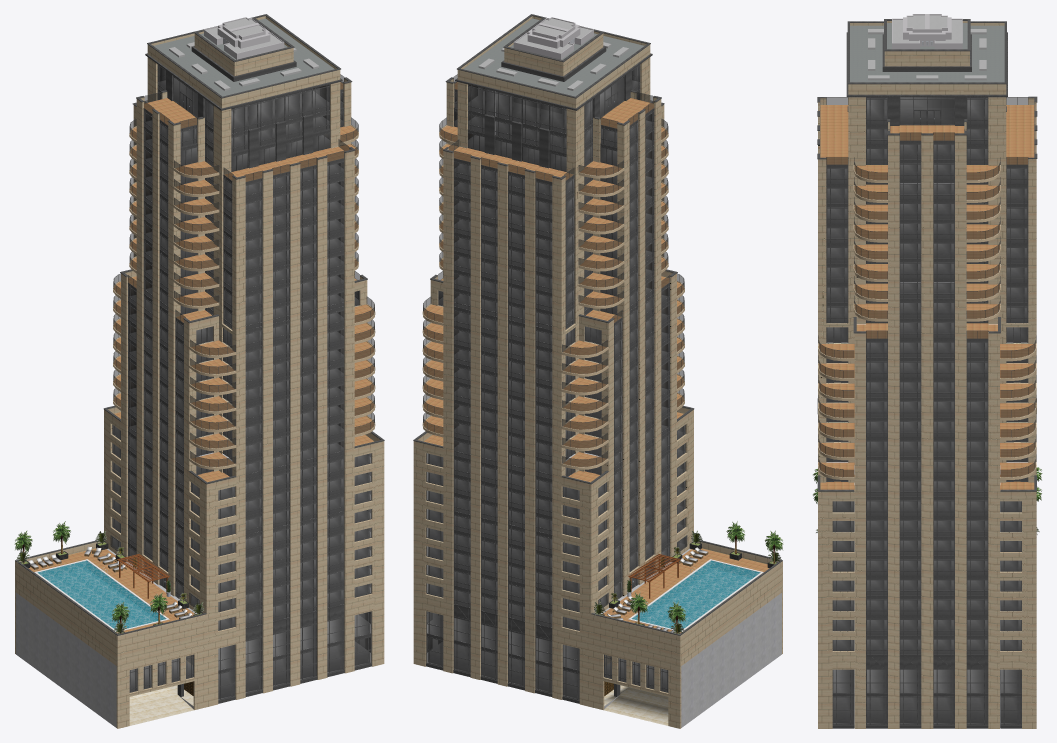
File: harper.optimized.glb
3 renders of one model, left to right at view 1: azimuth 30°, elevation 25°; view 2: azimuth 150°, elevation 25°; view 3: azimuth 270°, elevation 25°, orthographic. The views are drawn at different scales.
Visible parts, largest first — view 1: Mesh78__34_0, Mesh35_Glass_0, Mesh35_Dark_Steel_0, Mesh17___0, Mesh320__32_0, Mesh330__159_0, Mesh654__31_0, Mesh320__Water_Pool_Light_1_0, Mesh78_Blacktop_Old_02_0, Mesh35_FrontColor_0, Mesh1641__57_0, Mesh62_Metal_Steel_Textured_White_0 (+3 smaller); view 2: Mesh78__34_0, Mesh35_Glass_0, Mesh35_Dark_Steel_0, Mesh17___0, Mesh320__32_0, Mesh330__159_0, Mesh654__31_0, Mesh320__Water_Pool_Light_1_0, Mesh78_Blacktop_Old_02_0, Mesh35_FrontColor_0, Mesh1641__57_0, Mesh62_Metal_Steel_Textured_White_0 (+3 smaller); view 3: Mesh78__34_0, Mesh35_Glass_0, Mesh35_Dark_Steel_0, Mesh17___0, Mesh320__32_0, Mesh330__159_0, Mesh78_Blacktop_Old_02_0, Mesh654__31_0, Mesh35_FrontColor_0, Mesh62_Metal_Steel_Textured_White_0.
Part boxes in pixels (<box>): Mesh78__34_0: <box>15,16,384,728</box>; Mesh35_Glass_0: <box>111,66,370,699</box>; Mesh35_Dark_Steel_0: <box>15,14,384,703</box>; Mesh17___0: <box>16,78,370,727</box>; Mesh320__32_0: <box>28,82,373,633</box>; Mesh330__159_0: <box>113,74,374,466</box>; Mesh654__31_0: <box>113,125,375,469</box>; Mesh320__Water_Pool_Light_1_0: <box>38,560,165,628</box>; Mesh78_Blacktop_Old_02_0: <box>153,18,334,96</box>; Mesh35_FrontColor_0: <box>28,17,370,647</box>; Mesh1641__57_0: <box>129,685,194,725</box>; Mesh62_Metal_Steel_Textured_White_0: <box>169,18,319,90</box>; Mesh78__34_0: <box>413,16,782,728</box>; Mesh35_Glass_0: <box>427,66,686,699</box>; Mesh35_Dark_Steel_0: <box>413,14,782,703</box>; Mesh17___0: <box>427,78,781,727</box>; Mesh320__32_0: <box>424,82,769,633</box>; Mesh330__159_0: <box>423,74,684,466</box>; Mesh654__31_0: <box>422,125,684,469</box>; Mesh320__Water_Pool_Light_1_0: <box>632,560,759,628</box>; Mesh78_Blacktop_Old_02_0: <box>463,18,644,96</box>; Mesh35_FrontColor_0: <box>427,17,699,647</box>; Mesh1641__57_0: <box>603,685,668,725</box>; Mesh62_Metal_Steel_Textured_White_0: <box>478,18,628,90</box>; Mesh78__34_0: <box>818,21,1036,728</box>; Mesh35_Glass_0: <box>827,97,1027,723</box>; Mesh35_Dark_Steel_0: <box>817,19,1037,728</box>; Mesh17___0: <box>826,100,1027,727</box>; Mesh320__32_0: <box>819,105,1035,489</box>; Mesh330__159_0: <box>818,97,1035,477</box>; Mesh78_Blacktop_Old_02_0: <box>850,23,1004,82</box>; Mesh654__31_0: <box>818,165,1036,479</box>; Mesh35_FrontColor_0: <box>854,14,1000,724</box>; Mesh62_Metal_Steel_Textured_White_0: <box>868,15,986,80</box>.
Size of the model in its own units: 45.7 by 100 by 31.67.
25 materials, 25 textured.
